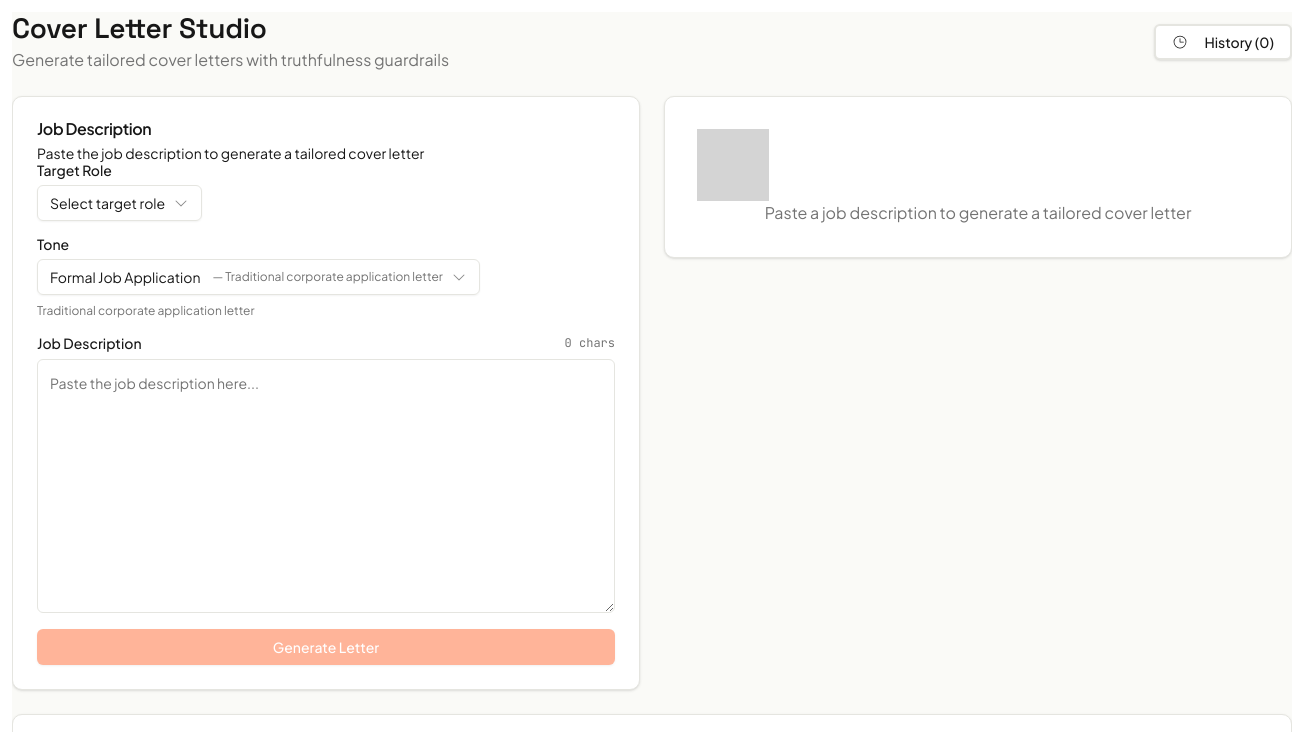
Test: CoverLetterStudio › generates a letter, persists it, and displays the draft plus claims to verify
Type "We need an Amazon PPC VA" into the text box with placeholder "Paste the job description here..." at (326, 486), box [37,359,615,613]
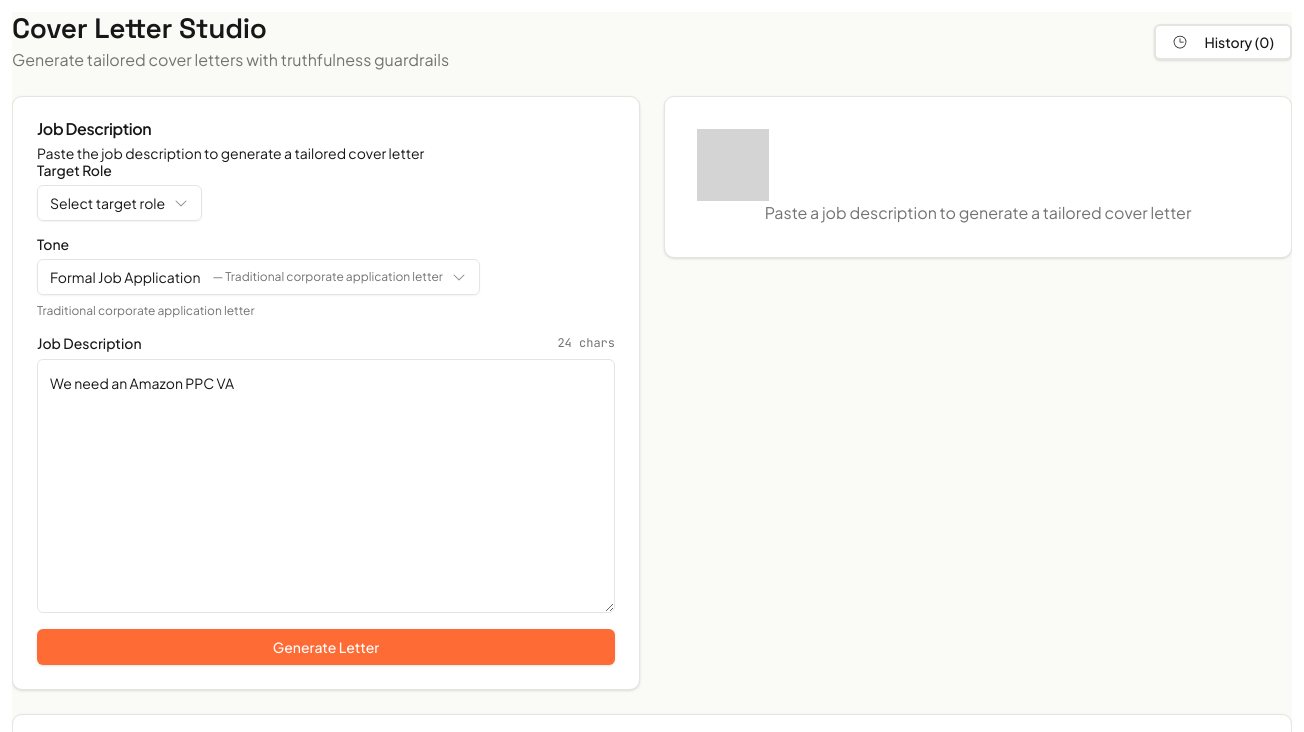
Click the button "Generate Letter" at (326, 647), box [37,629,615,665]
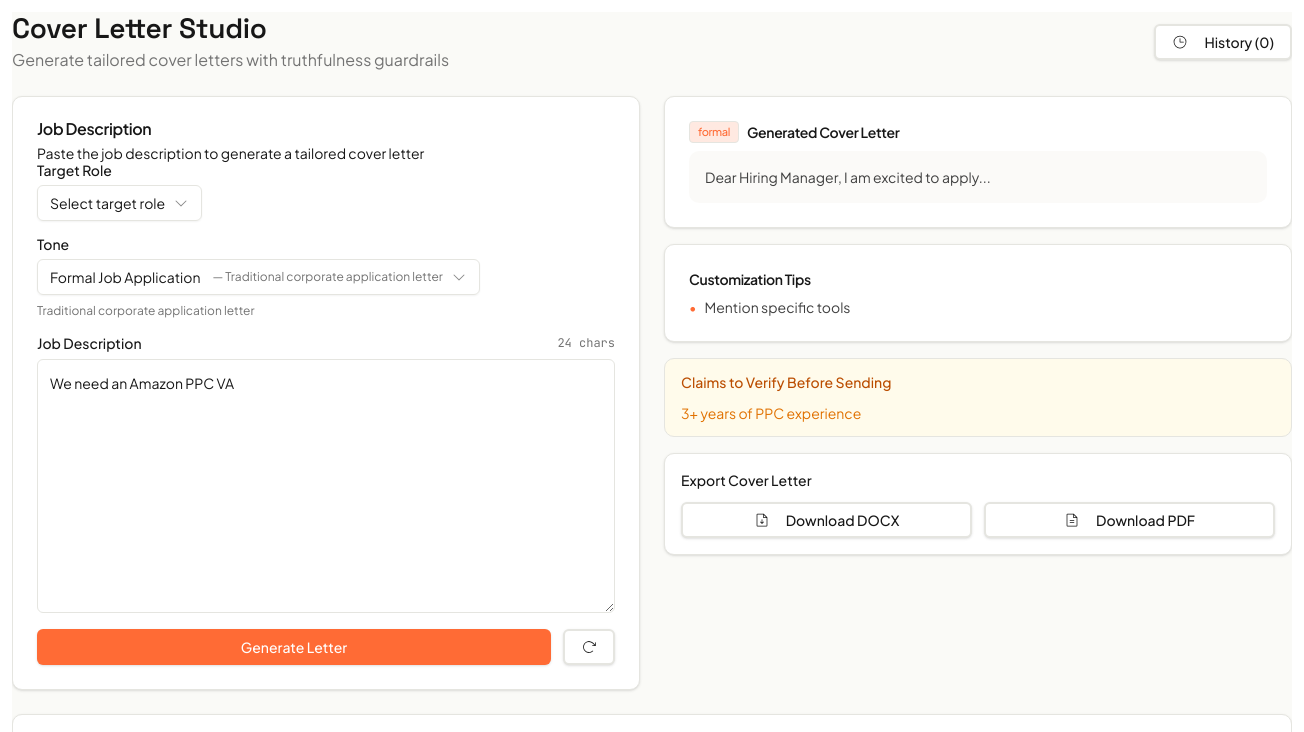
Result: the text "Dear Hiring Manager, I am excited to apply..." is shown at [705,168,991,186]
Result: the text "3+ years of PPC experience" is shown at [681,402,861,424]
Result: the text "Claims to Verify Before Sending" is shown at [681,371,891,394]
